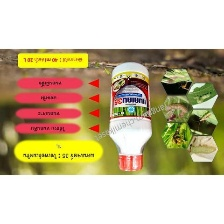insecticide: (106, 58, 153, 173)
